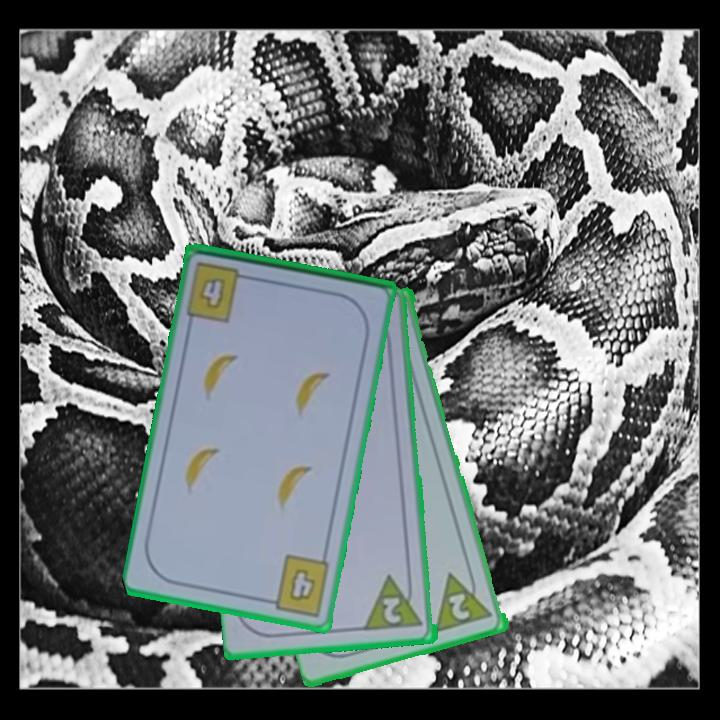2p: (363, 571, 427, 634), (445, 590, 474, 624)
4b: (261, 551, 333, 620), (182, 258, 256, 325)
